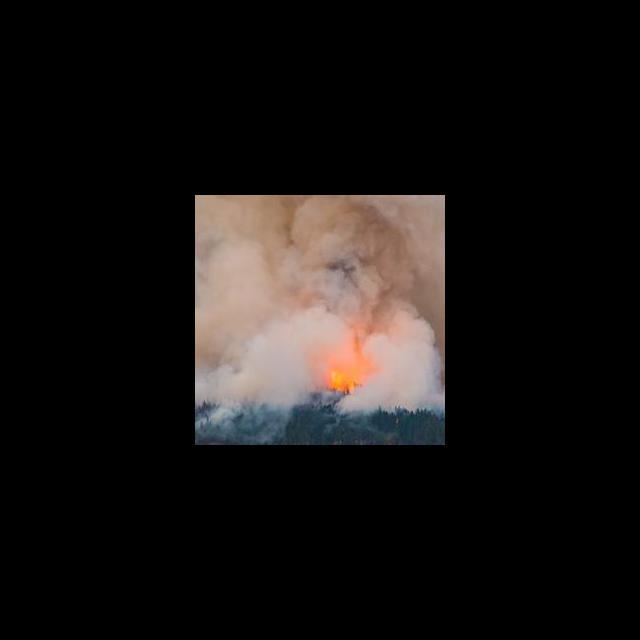Fire: (322, 348, 372, 397)
Smoke: (196, 196, 312, 408), (372, 305, 444, 415)
